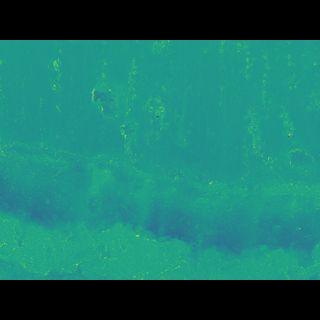Loch: (0, 146, 320, 249)
